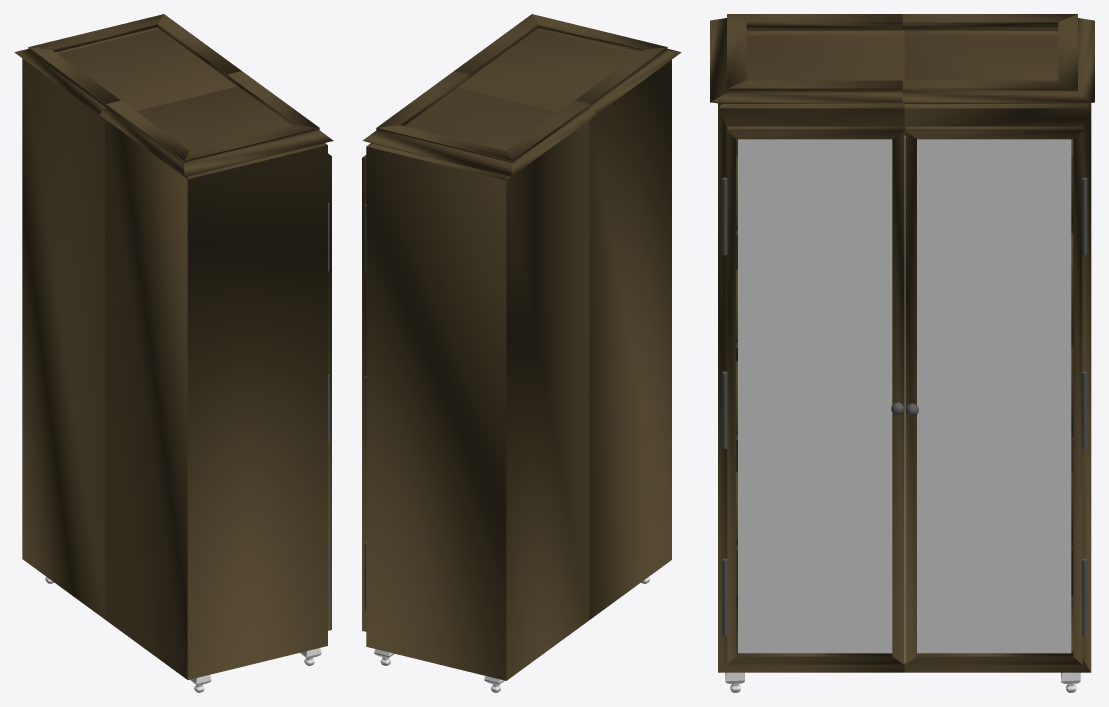
Rendered from Dresser.fbx.
3 views of the same model, side by side, from view 1: azimuth 30°, elevation 25°; view 2: azimuth 150°, elevation 25°; view 3: azimuth 270°, elevation 25° (orthographic). The views are drawn at different scales.
Parts seen in each view (by area): view 1: Cube; view 2: Cube, Cube.002; view 3: Cube.003, Cube, Cube.002, Cube.001.
Part boxes in pixels (<box>): Cube: <box>14,14,333,679</box>; Cube: <box>362,14,681,680</box>; Cube.002: <box>364,204,366,610</box>; Cube.003: <box>738,136,1071,662</box>; Cube: <box>710,14,1094,672</box>; Cube.002: <box>722,177,1087,635</box>; Cube.001: <box>725,672,1080,692</box>.
Bounding box in the file's own units: 738 × 2222 × 1277.
